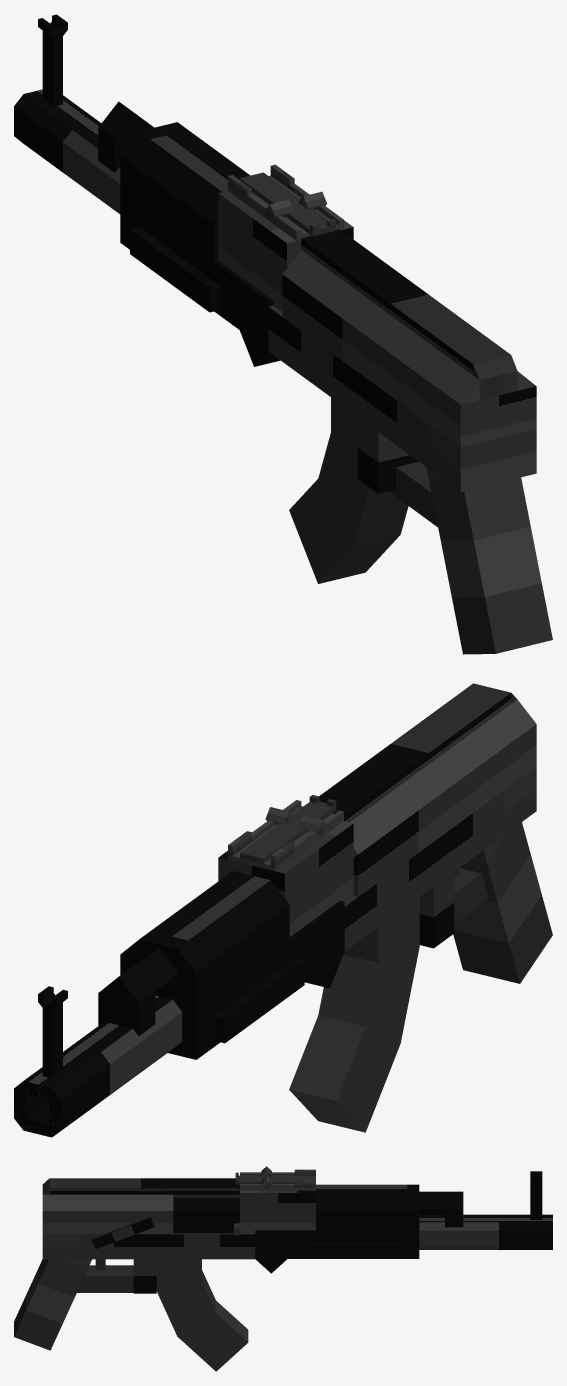
Rendered from mteg_akm_custom.glb.
The picture shows the model from 3 angles, top to bottom: view 1: azimuth 30°, elevation 25°; view 2: azimuth 150°, elevation 25°; view 3: azimuth 270°, elevation 25°; orthographic projection. The views are drawn at different scales.
Visible parts, largest first — view 1: Gun; view 2: Gun; view 3: Gun.
Boxes of the visible parts, x1,y1,x2,y2 form: Gun: [14, 14, 552, 654]; Gun: [14, 683, 552, 1137]; Gun: [14, 1166, 552, 1371].
Size of the model in its own units: 0.1313 by 0.4362 by 1.11.
1 material, 1 textured.
